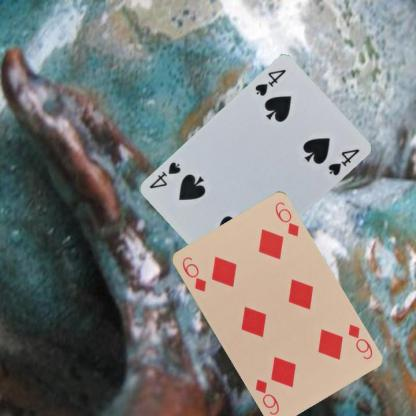4s: (252, 67, 288, 98)
6d: (178, 254, 208, 294), (345, 321, 374, 361)
